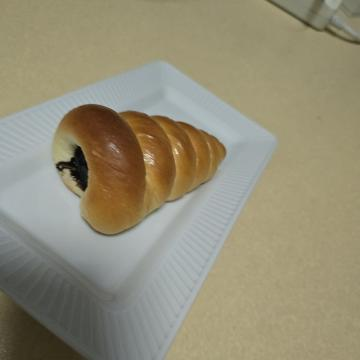cream horn: (79, 122, 253, 323)
